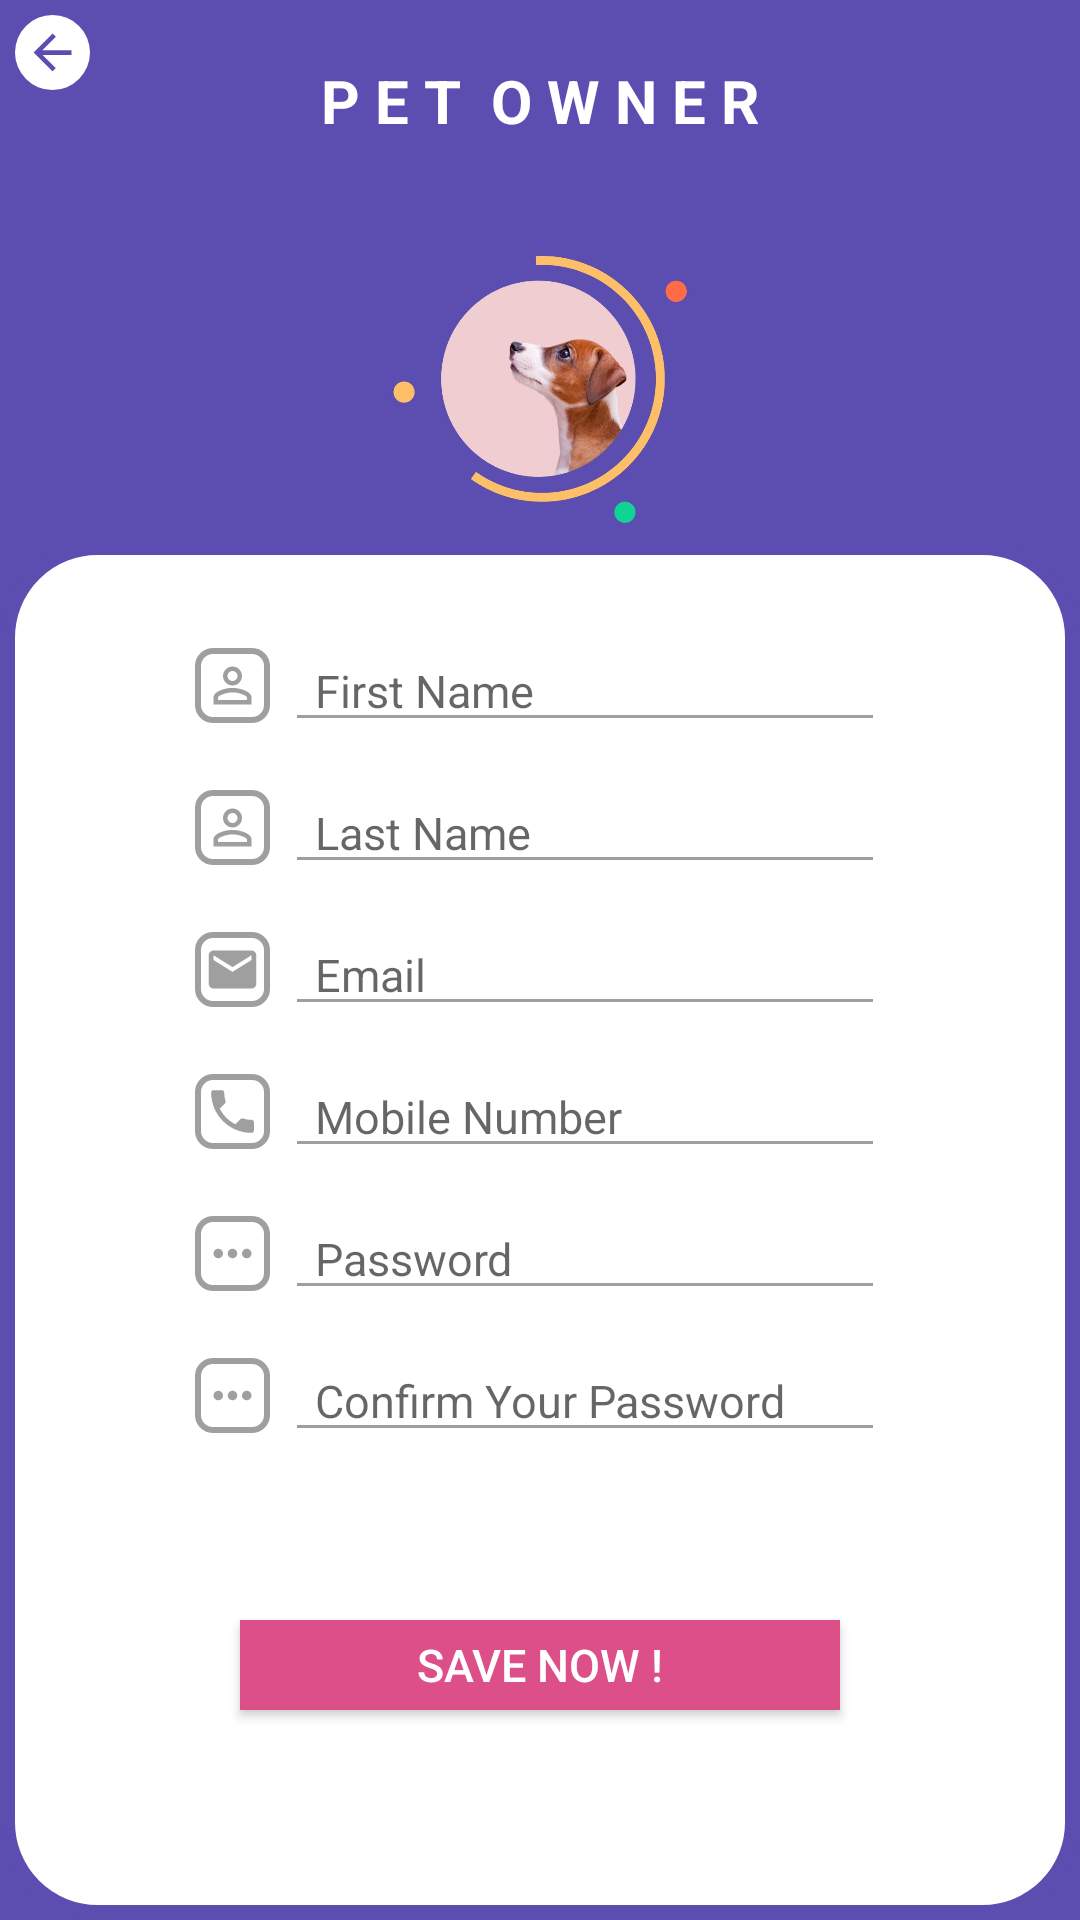

Icon click points for this 1080px×1920px phone screenshot, format [x,y]:
back: [52,52]
person: [232,685], [232,827]
phone: [232,1111]
